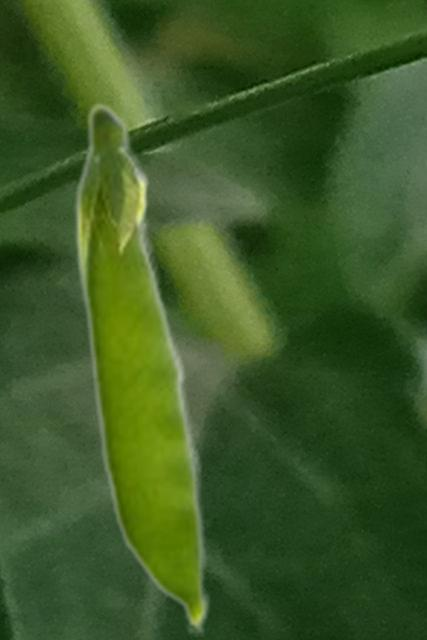pea: (73, 100, 211, 635)
